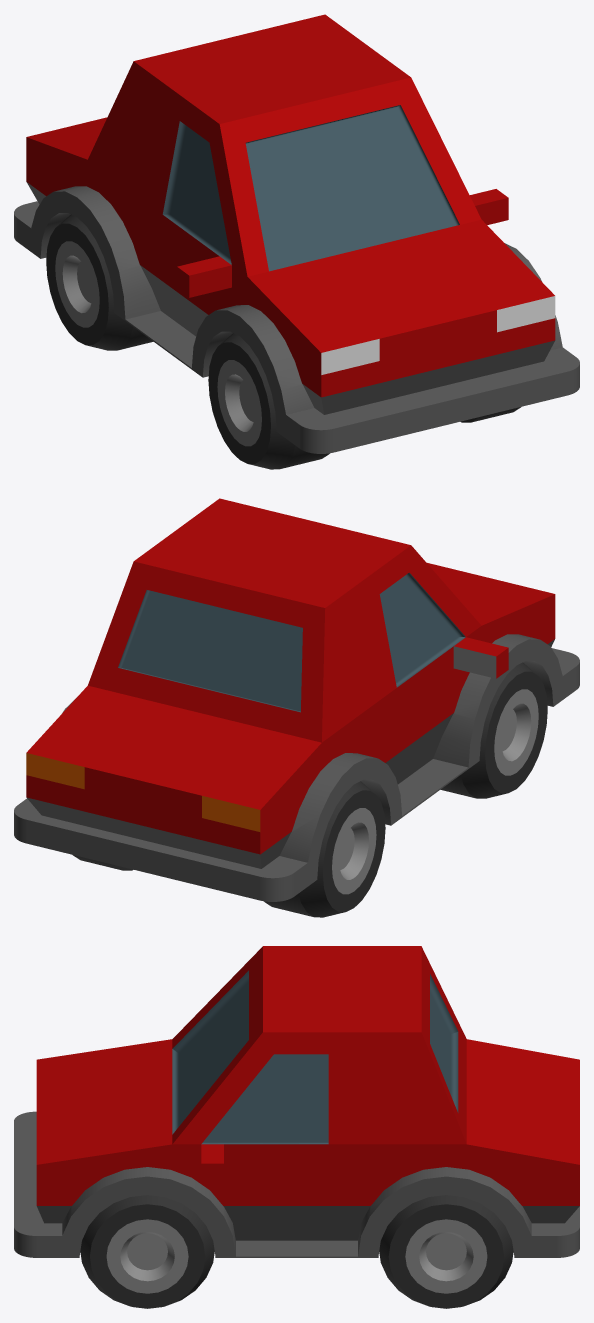
Rendered from 62 Car_2.fbx.
3 renders of one model, top to bottom at view 1: azimuth 30°, elevation 25°; view 2: azimuth 150°, elevation 25°; view 3: azimuth 270°, elevation 25°, orthographic. The views are drawn at different scales.
Parts seen in each view (by area): view 1: Car_2; view 2: Car_2; view 3: Car_2.
Boxes of the visible parts, x1=… form: Car_2: x1=14, y1=14, x2=579, y2=469; Car_2: x1=14, y1=498, x2=579, y2=917; Car_2: x1=14, y1=946, x2=579, y2=1308.
Size of the model in its own units: 33.75 by 29.25 by 56.25.
